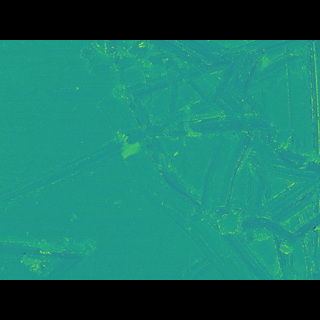Loch: (86, 68, 319, 250), (0, 141, 131, 199), (0, 213, 99, 249)
